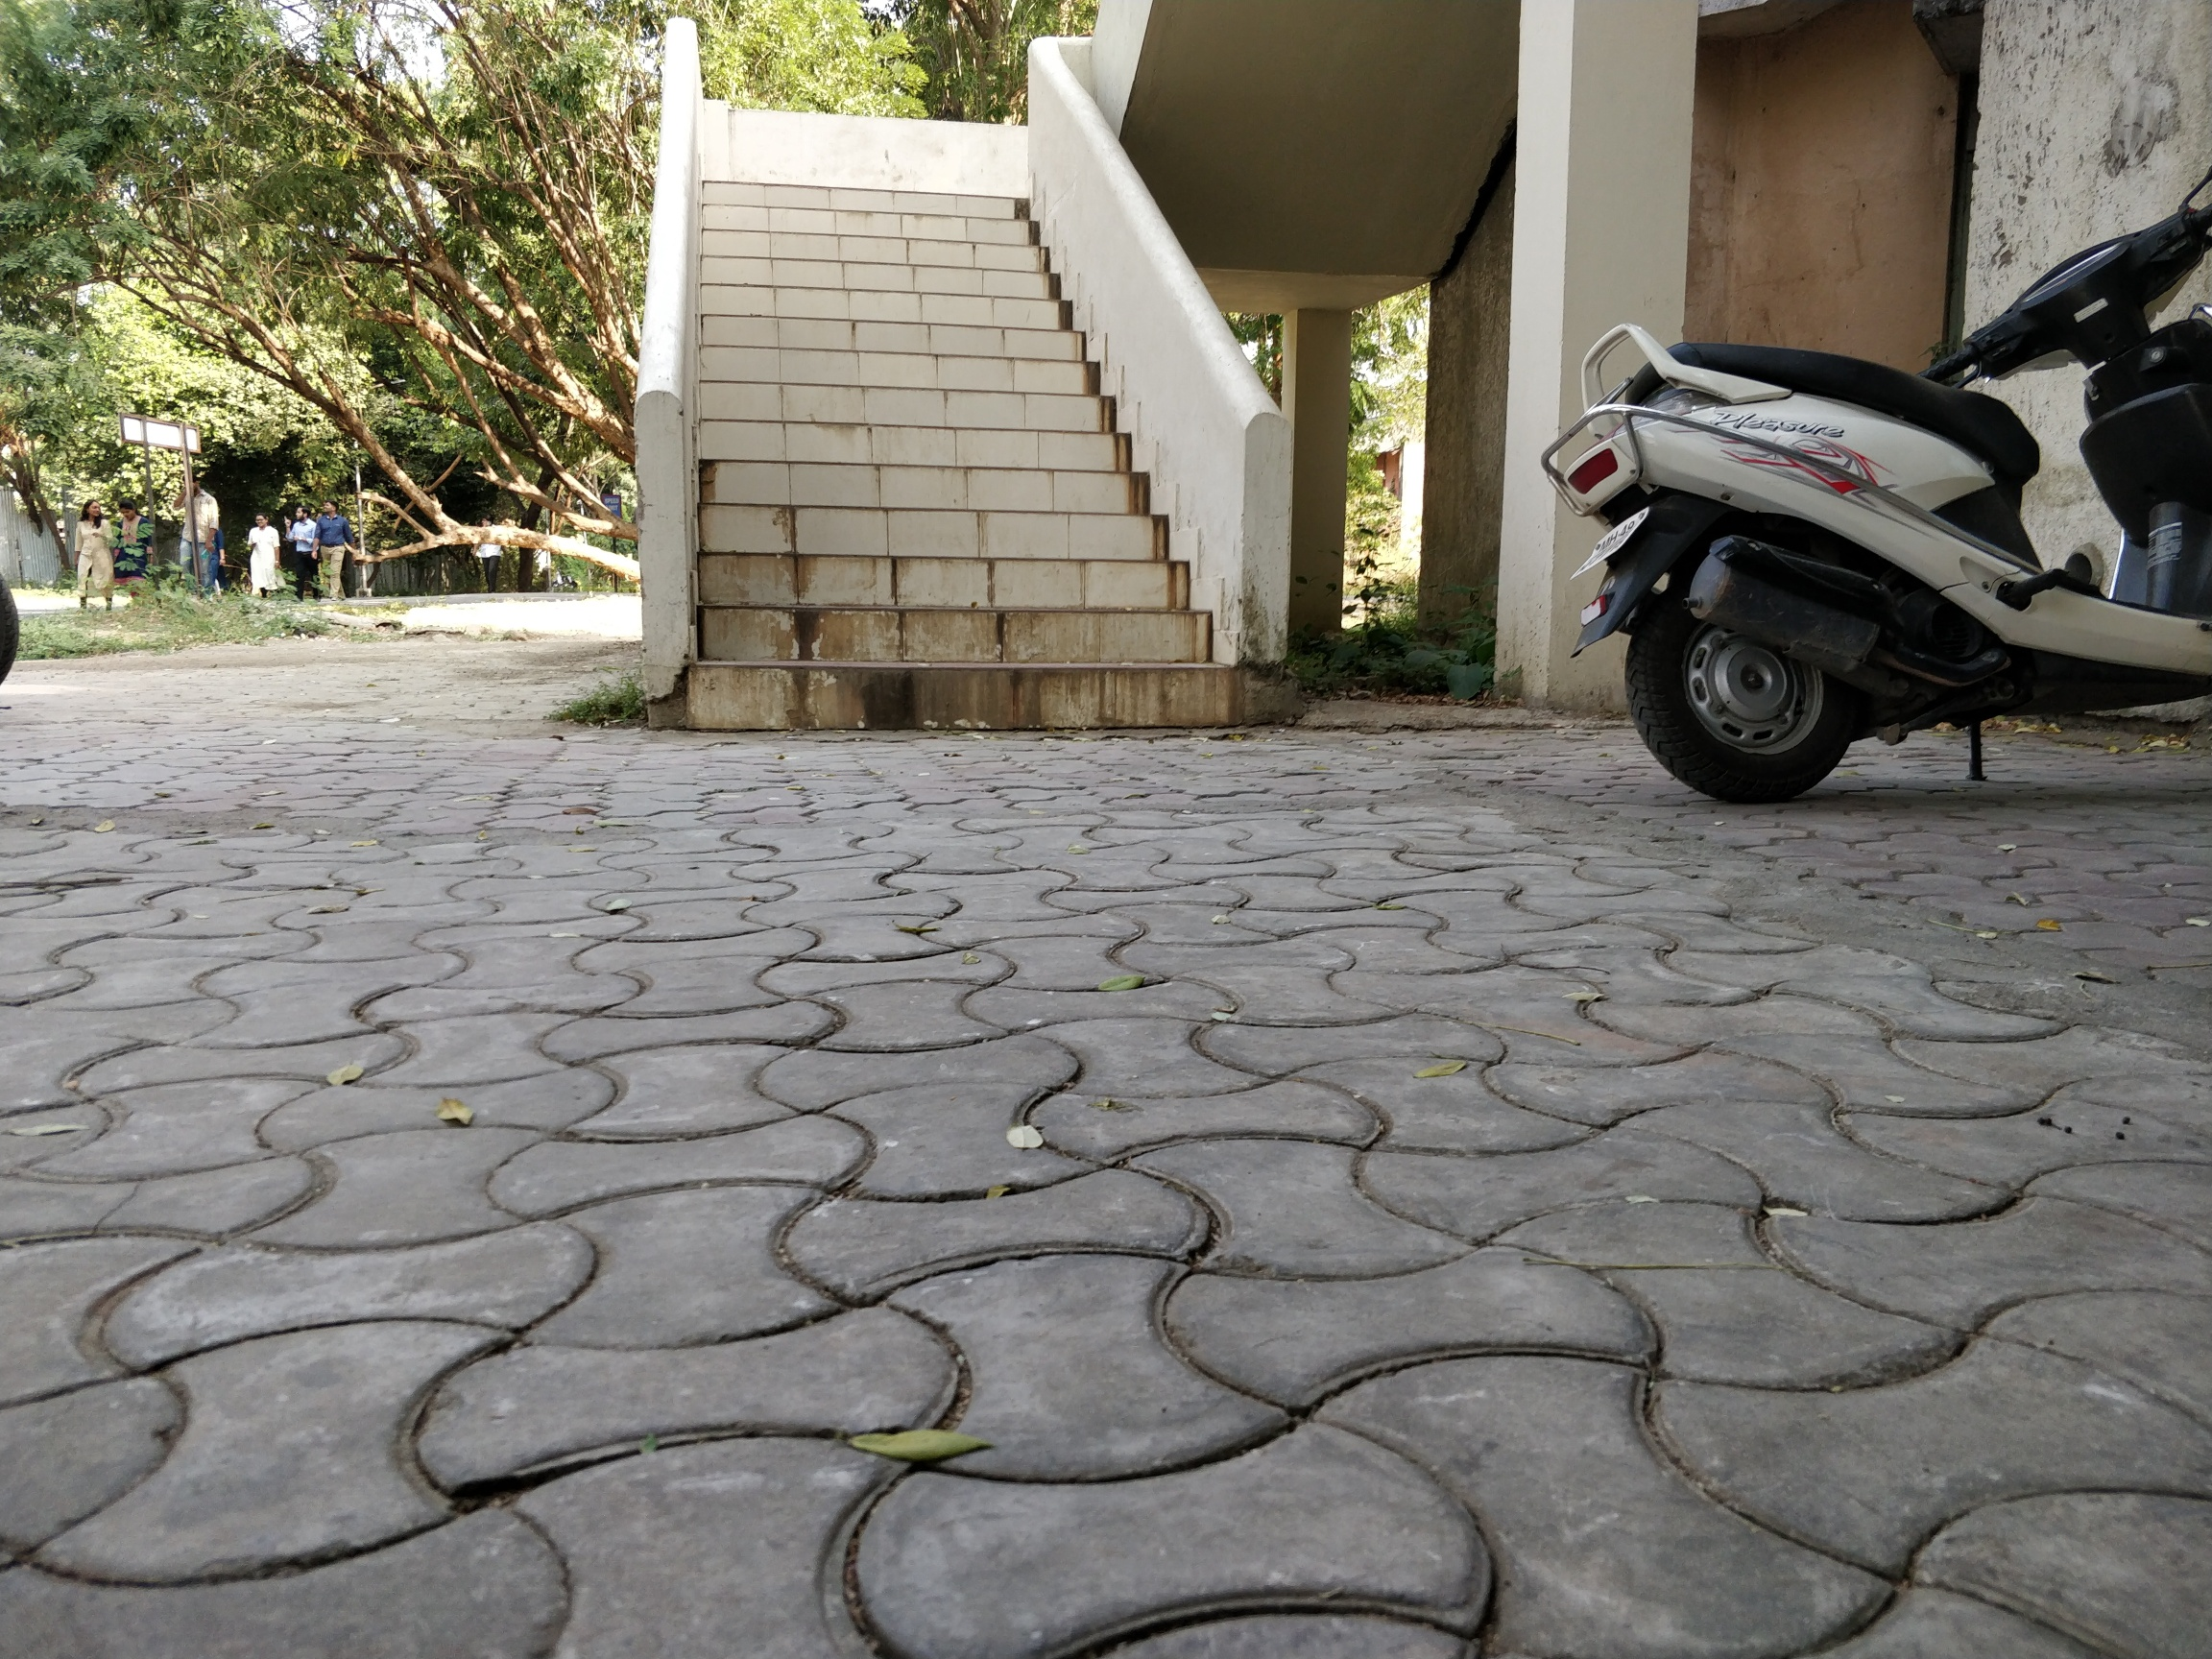stairs_up: (678, 162, 1224, 734)
